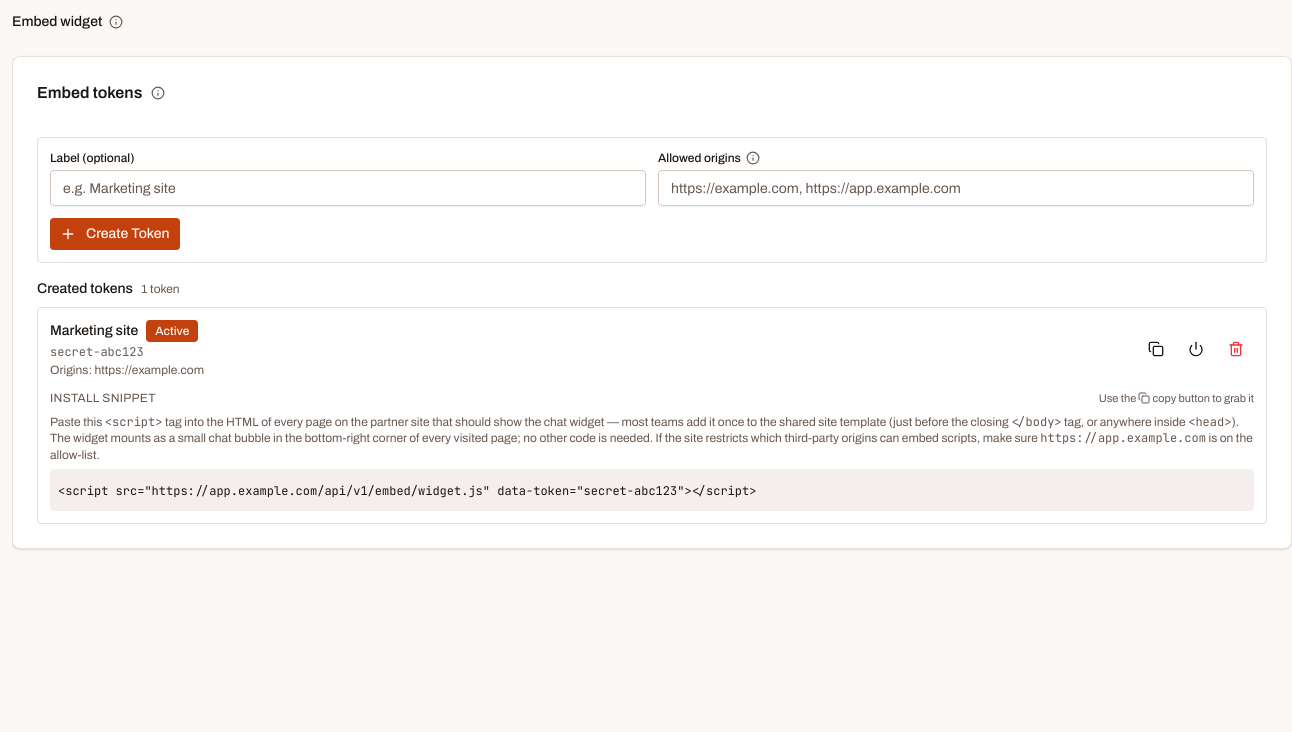
Test: EmbedConfigPanel › shows error when toggle fails
The image size is (1292, 732).
Expected: the text "Active" is shown, [146,320,198,342]
Click the button named "Deactivate Marketing site" at (1196, 349), box [1178,333,1214,365]
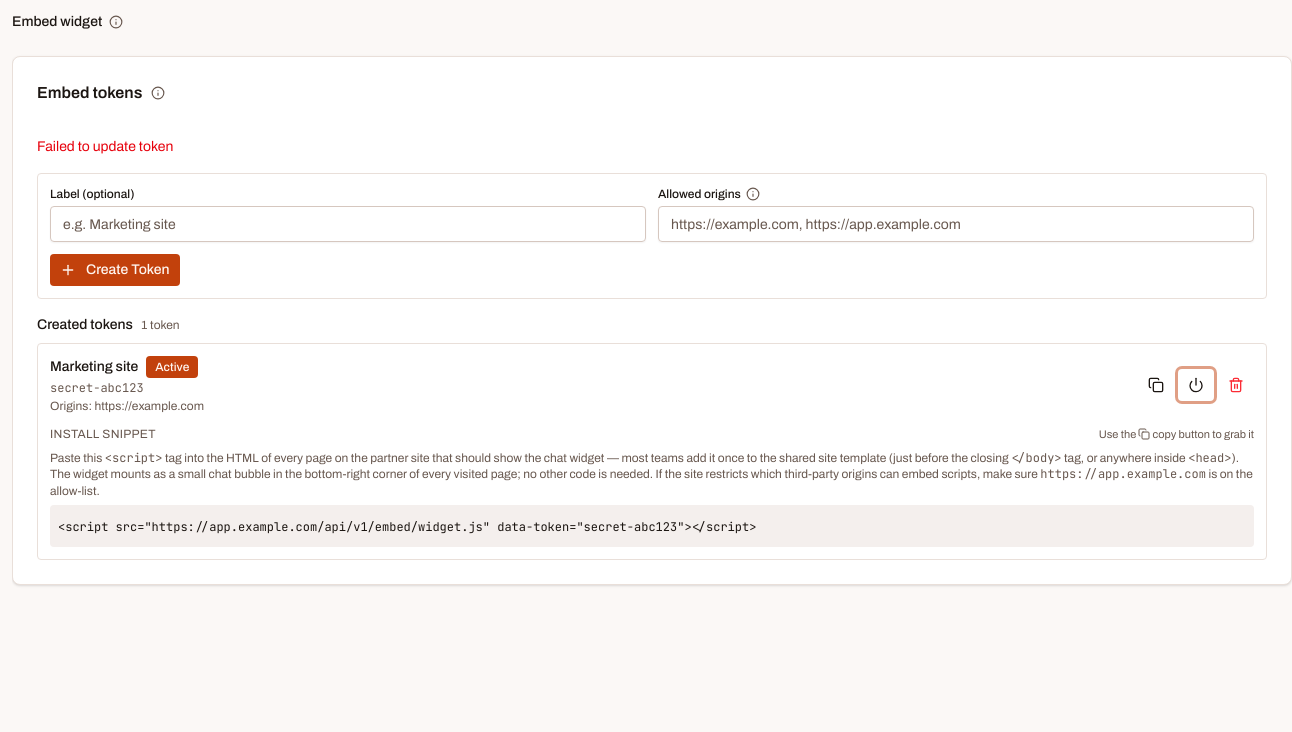
Result: the text "Failed to update token" is shown at [37,139,173,154]
